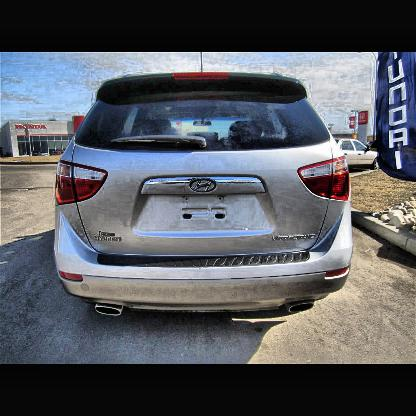Hyundai Veracruz SUV 2012: (55, 53, 354, 315)
